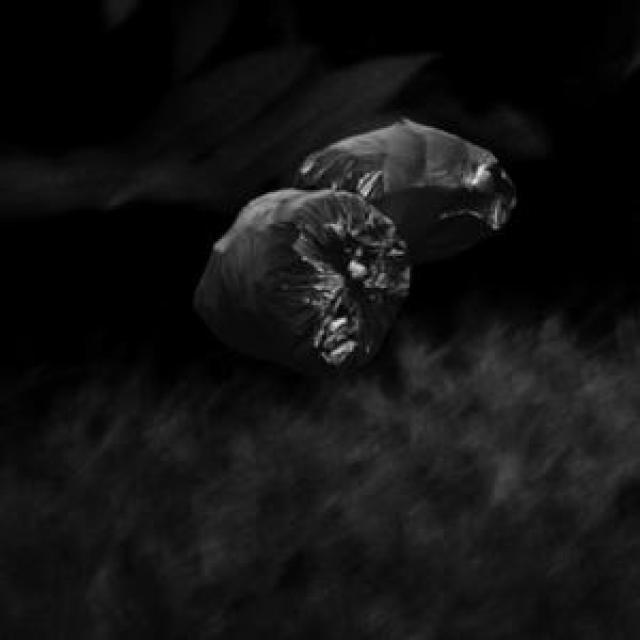miscellaneous trash: (190, 115, 512, 376)
